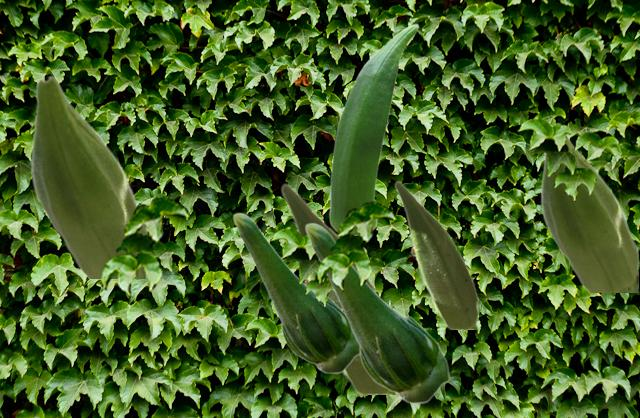okra: (304, 222, 449, 403), (280, 182, 394, 393), (30, 75, 145, 277), (232, 212, 358, 373), (328, 23, 418, 234), (540, 122, 637, 291), (394, 180, 477, 328)
